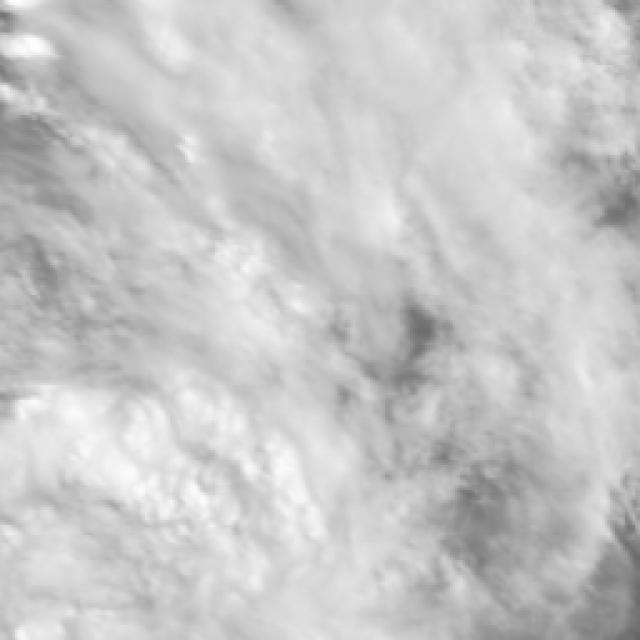CB: (6, 377, 303, 636), (215, 18, 500, 171)
